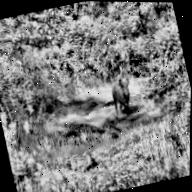boar: (95, 69, 141, 124)
